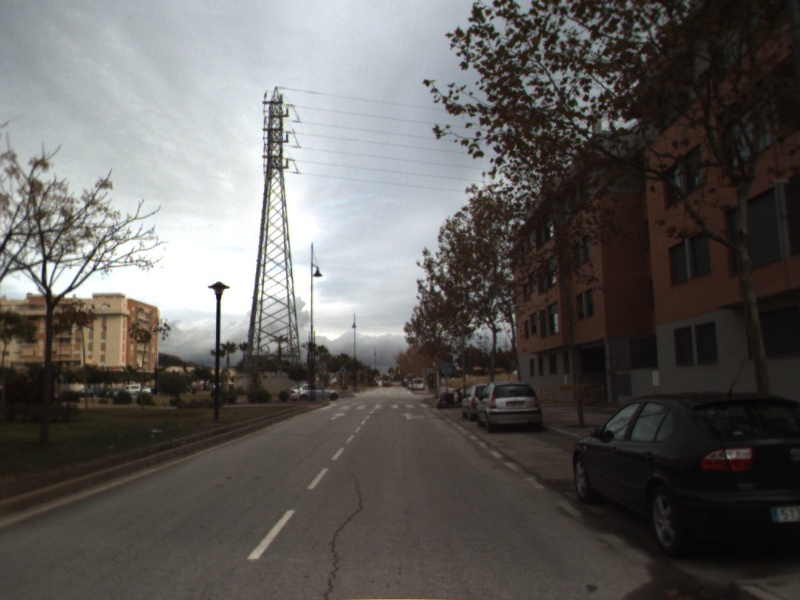STRAIGHT: (328, 410, 348, 422)
STRAIGHT_RIGHT: (399, 410, 428, 422)
